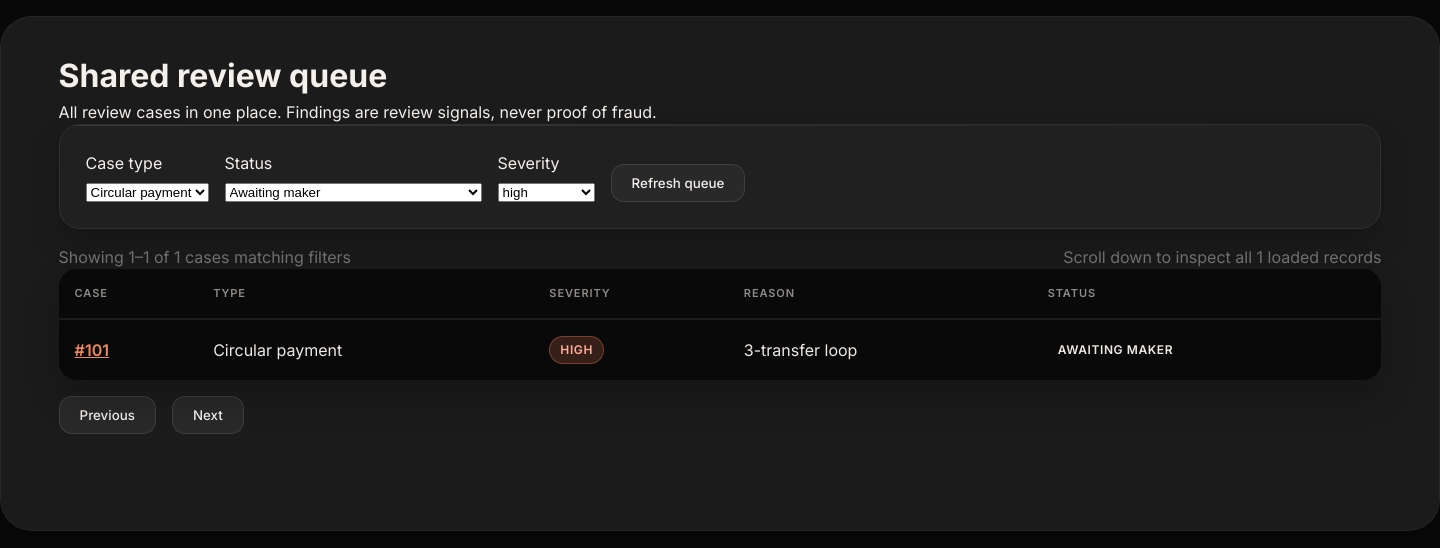
Test case: unified review navigation › reports a missing case instead of an empty page
Click the link "#101": (80, 350) [75,340,109,360]
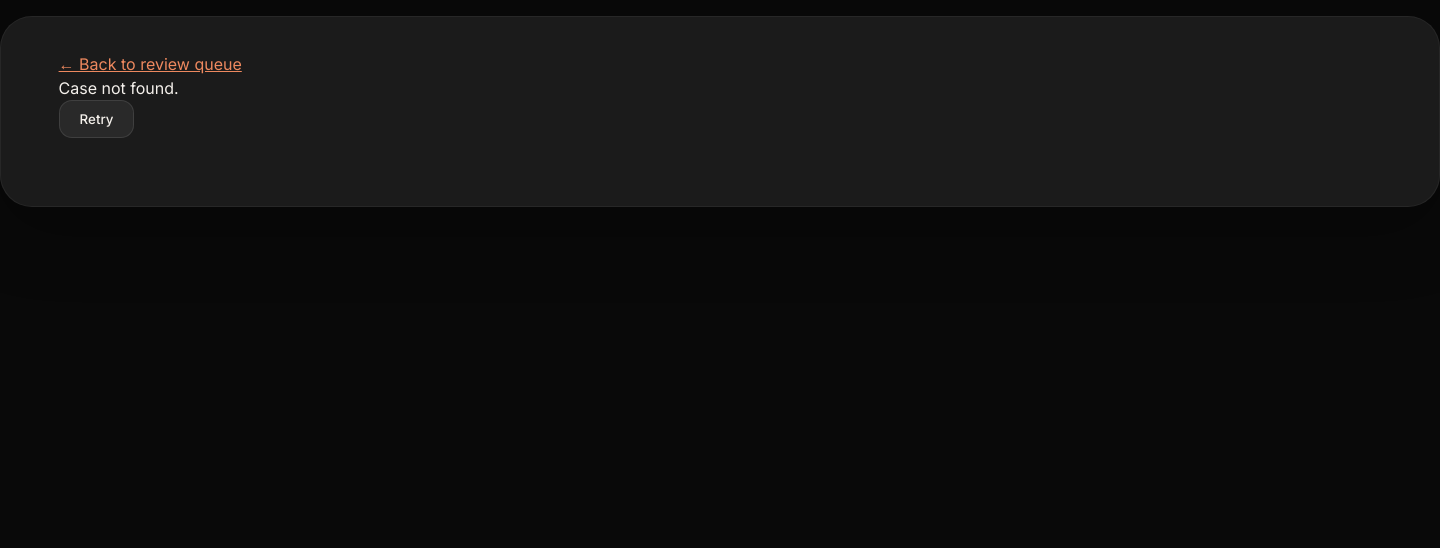
Result: the message reads "Case not found." at [59,78,179,98]
